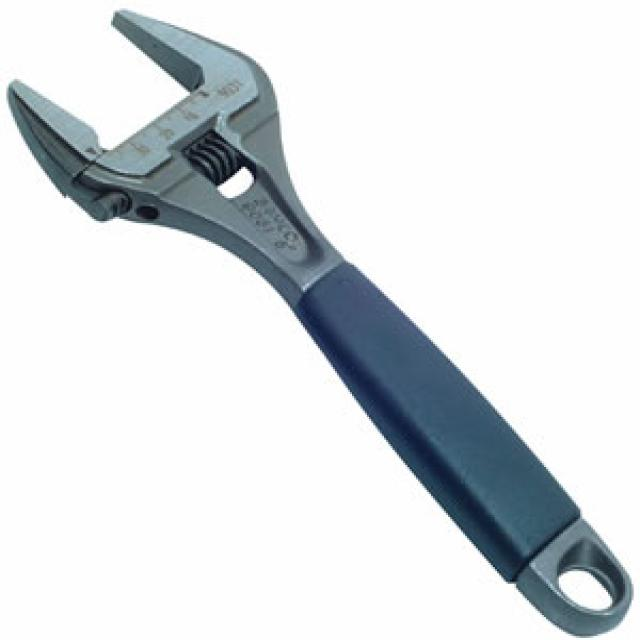wrench: (0, 0, 614, 535)
